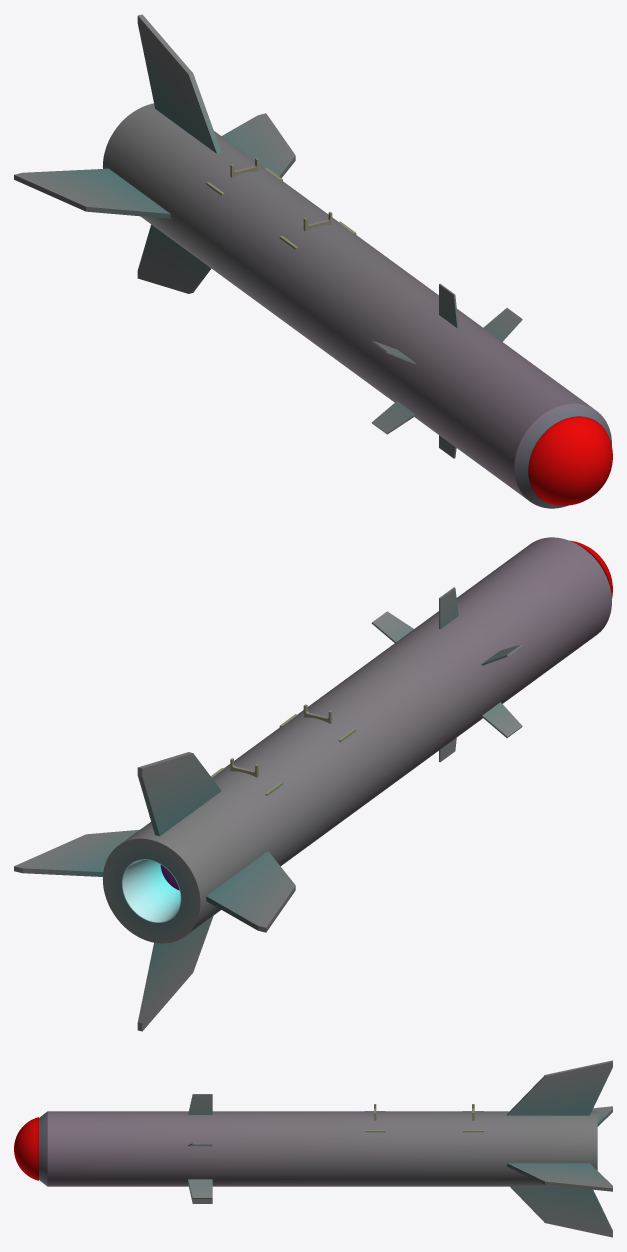
3 views of the same model, one above another, from view 1: azimuth 30°, elevation 25°; view 2: azimuth 150°, elevation 25°; view 3: azimuth 270°, elevation 25° (orthographic). The views are drawn at different scales.
Parts seen in each view (by area): view 1: hull, red_cap, vertical_fin.001, tail_fin.001, vertical_fin, tail_fin, control.006, control.003; view 2: hull, vertical_fin.001, tail_fin.001, vertical_fin, tail_fin, inner_wall, control.006, control.003; view 3: hull, vertical_fin.001, vertical_fin, tail_fin, red_cap, control.002, control.004.
Part boxes in pixels (left/top/right/bottom): hull: left=102, top=103, right=611, bottom=508; red_cap: left=528, top=416, right=612, bottom=505; vertical_fin.001: left=137, top=14, right=221, bottom=153; tail_fin.001: left=14, top=168, right=170, bottom=218; vertical_fin: left=137, top=224, right=211, bottom=293; tail_fin: left=221, top=113, right=295, bottom=177; control.006: left=371, top=401, right=415, bottom=434; control.003: left=483, top=308, right=522, bottom=341; hull: left=102, top=537, right=611, bottom=943; vertical_fin.001: left=137, top=752, right=221, bottom=836; tail_fin.001: left=206, top=851, right=295, bottom=932; vertical_fin: left=137, top=916, right=213, bottom=1031; tail_fin: left=14, top=829, right=139, bottom=876; inner_wall: left=122, top=859, right=181, bottom=922; control.006: left=481, top=702, right=522, bottom=737; control.003: left=371, top=611, right=413, bottom=642; hull: left=39, top=1111, right=597, bottom=1186; vertical_fin.001: left=507, top=1060, right=612, bottom=1115; vertical_fin: left=510, top=1186, right=612, bottom=1237; tail_fin: left=507, top=1163, right=612, bottom=1191; red_cap: left=14, top=1117, right=38, bottom=1180; control.002: left=188, top=1094, right=212, bottom=1114; control.004: left=188, top=1179, right=212, bottom=1198.
Bounding box in the file's own units: 0.974 × 0.9705 × 3.
